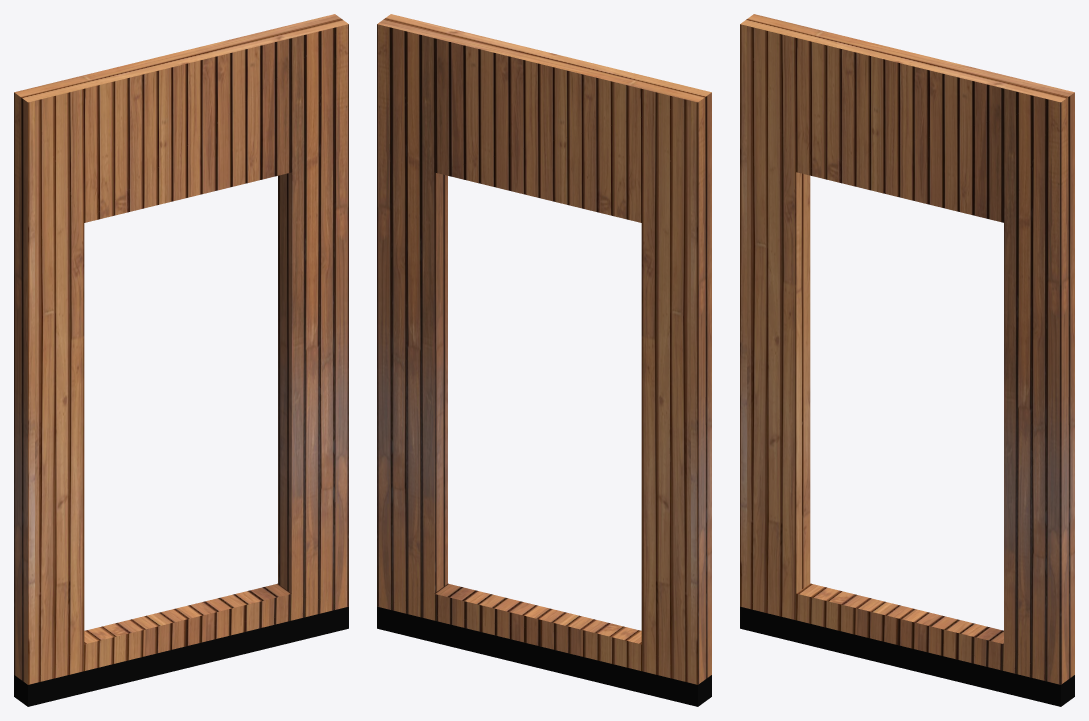
Rendered from ARC0210038.fbx.
The picture shows the model from 3 angles, left to right: view 1: azimuth 30°, elevation 25°; view 2: azimuth 150°, elevation 25°; view 3: azimuth 330°, elevation 25°; orthographic projection.
Parts seen in each view (by area): view 1: smARC0210038; view 2: smARC0210038; view 3: smARC0210038.
Part boxes in pixels (box(x1,y1,x2,y2)): smARC0210038: box(14, 14, 348, 706); smARC0210038: box(377, 14, 711, 706); smARC0210038: box(740, 14, 1074, 706).
Bounding box in the file's own units: 182 × 328 × 13.67.
1 material, 1 textured.
